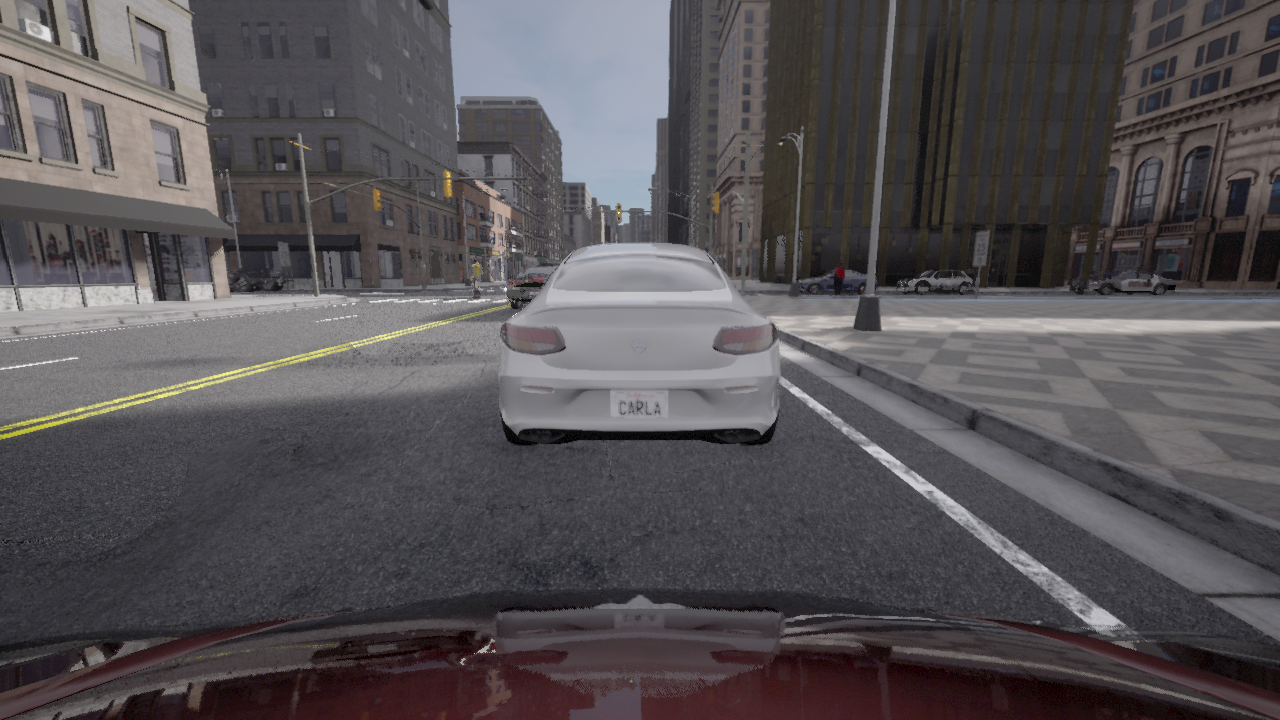cyclist: (0, 588, 1279, 719), (499, 243, 779, 444), (1069, 269, 1177, 295), (506, 263, 559, 309), (795, 270, 878, 294), (896, 270, 972, 295), (226, 270, 294, 293)
pedestrian: (471, 259, 482, 298), (833, 262, 844, 294)
